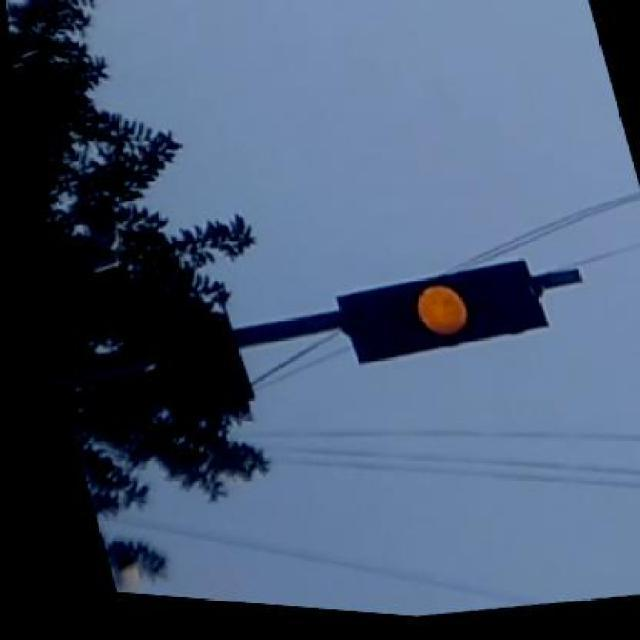yellow_light: (337, 259, 578, 360)
